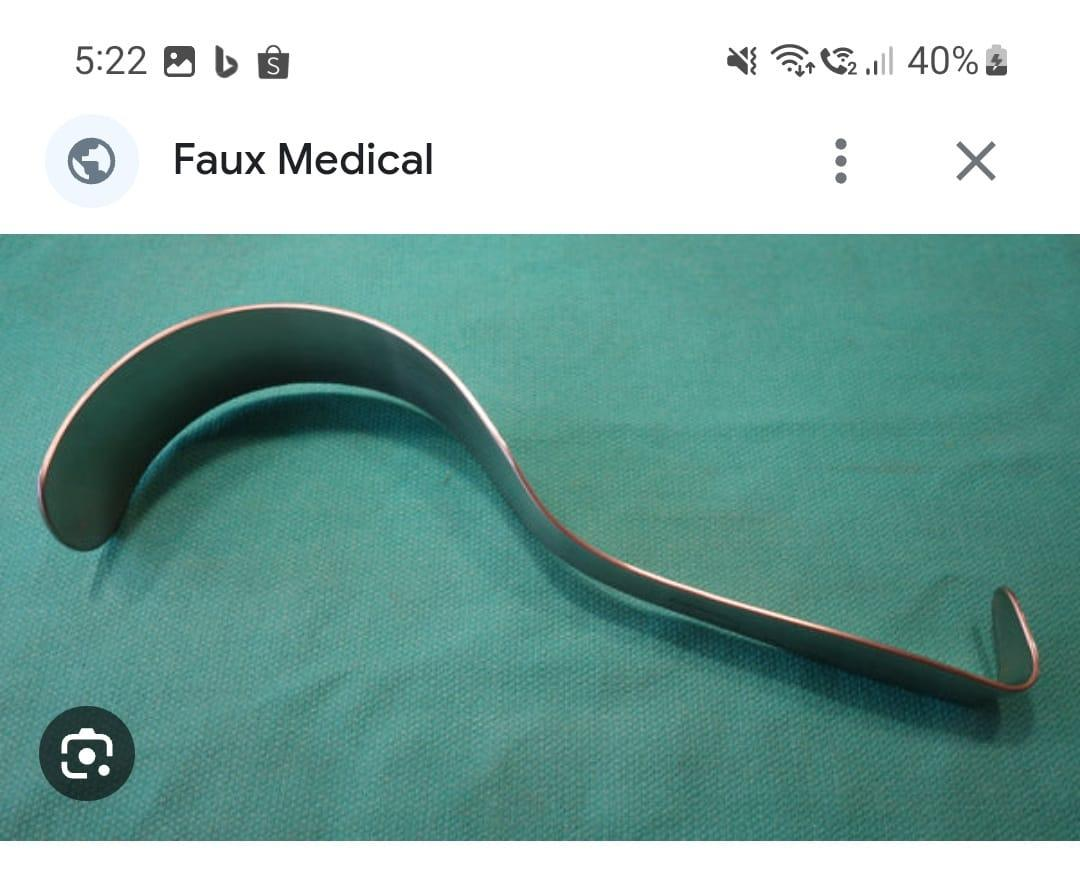Deaver Retractor: (30, 294, 1045, 714)
